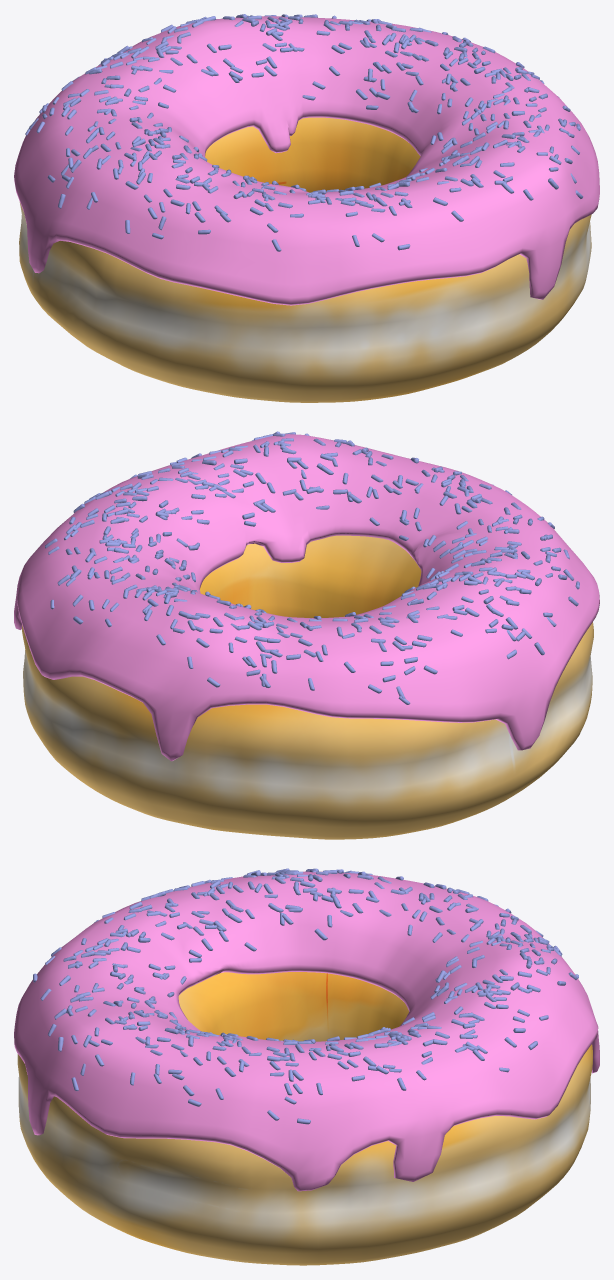
File: donut.gltf
3 renders of one model, top to bottom at view 1: azimuth 30°, elevation 25°; view 2: azimuth 150°, elevation 25°; view 3: azimuth 270°, elevation 25°, orthographic.
Parts seen in each view (by area): view 1: icing, donut; view 2: icing, donut; view 3: icing, donut.
Boxes of the visible parts, x1,y1,x2,y2 form: icing: [14, 16, 599, 305]; donut: [19, 117, 591, 402]; icing: [14, 434, 599, 761]; donut: [22, 535, 593, 839]; icing: [14, 871, 599, 1191]; donut: [17, 972, 592, 1265].
Size of the model in its own units: 0.1499 by 0.0598 by 0.147.
Materials: 3 (1 with a texture image).
